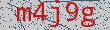4: (32, 2, 48, 29)
9: (63, 1, 79, 29)
g: (79, 2, 97, 28)
j: (46, 1, 63, 29)
m: (8, 1, 32, 29)
